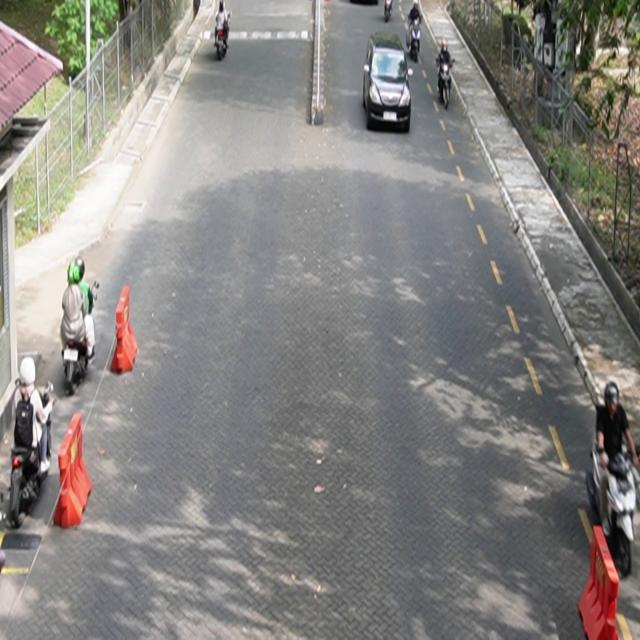car: (363, 31, 414, 133)
